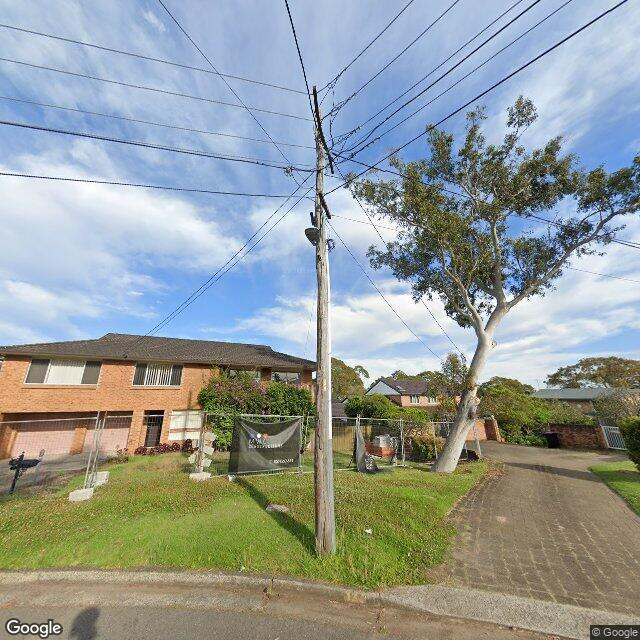crossarm: (312, 85, 336, 175), (317, 190, 332, 221)
timber-pole: (313, 119, 337, 556)
